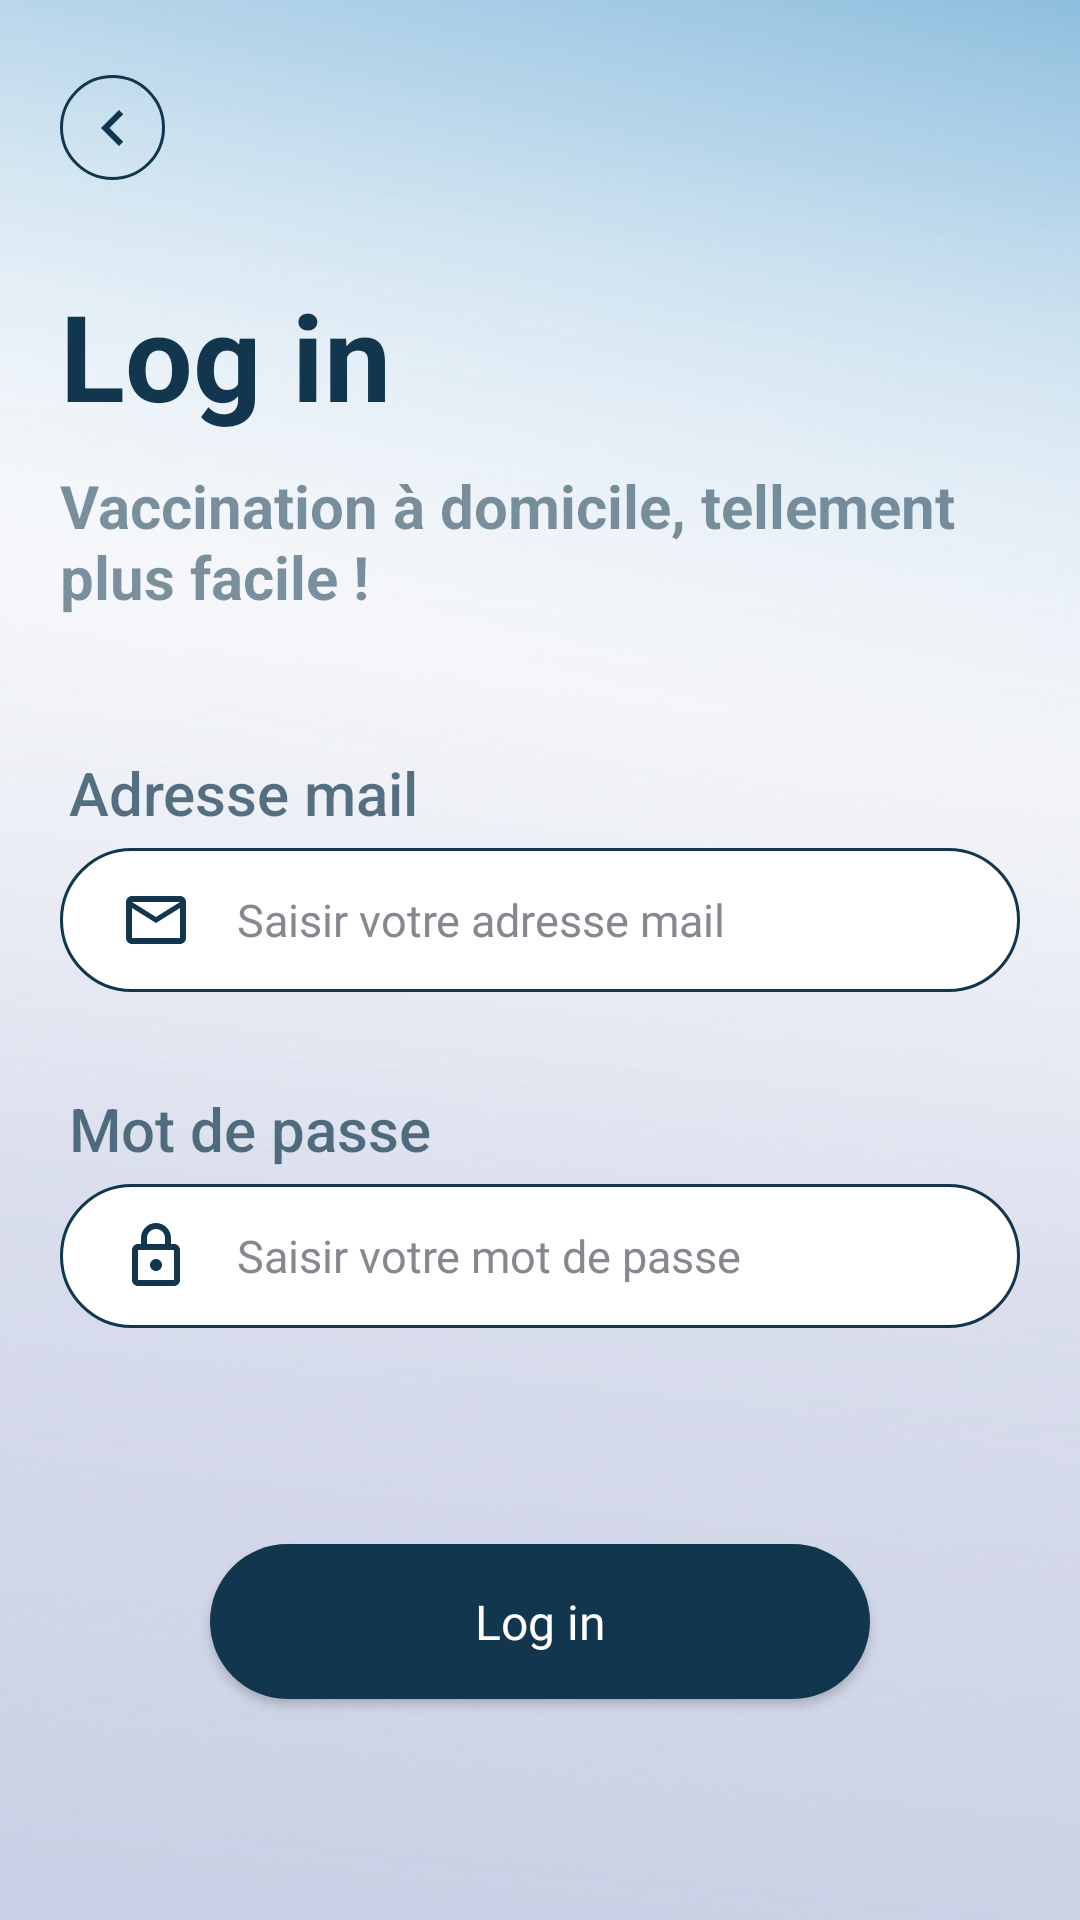

Screen size 1080px x 1920px. Icon name, then its center in pixels as [x,y]:
navigate before: [112,127]
